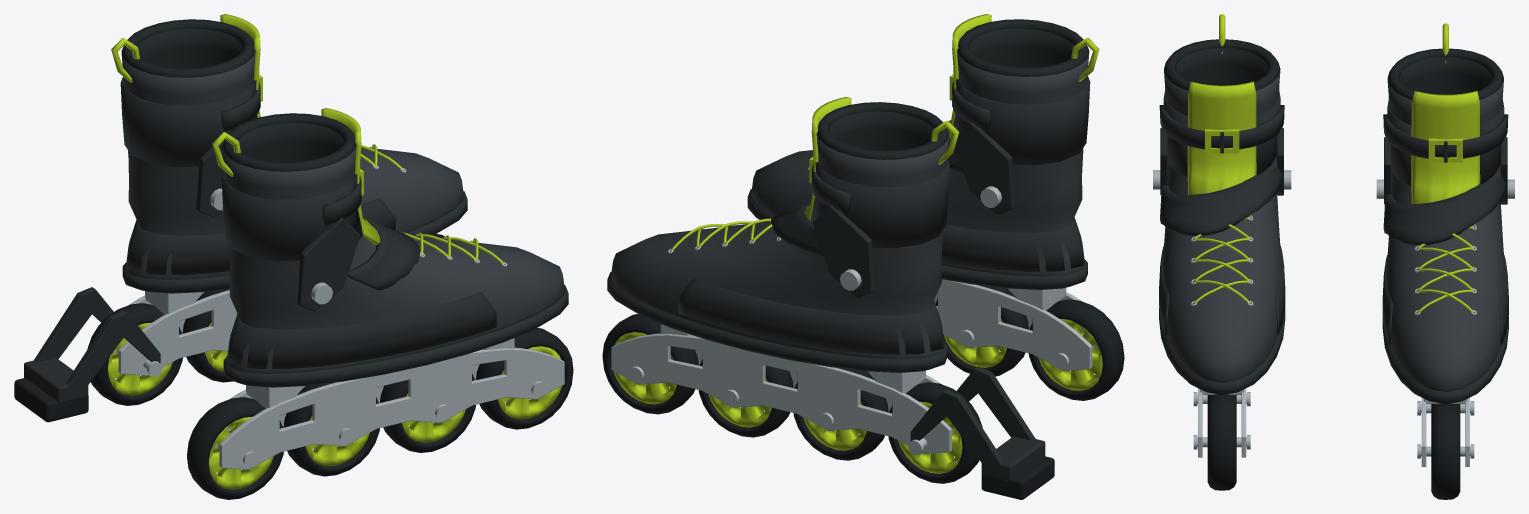
3 views of the same model, side by side, from view 1: azimuth 30°, elevation 25°; view 2: azimuth 150°, elevation 25°; view 3: azimuth 270°, elevation 25° (orthographic). The views are drawn at different scales.
Visible parts, largest first — view 1: L Hollow textile boot with lining, R Hollow textile boot with lining, L Perforated frame rail -0.018, L Rear molded heel cradle, L Raised C shaped ankle cuff, R Raised C shaped ankle cuff, L Molded boot sole, R Perforated frame rail -0.018, R Rear molded heel cradle, L Wheel1 rounded tread, L Cuff side pivot arm -0.048, R Padded collar welt (+24 smaller); view 2: R Hollow textile boot with lining, L Hollow textile boot with lining, R Perforated frame rail 0.018, R Rear molded heel cradle, L Perforated frame rail 0.018, R Raised C shaped ankle cuff, L Raised C shaped ankle cuff, L Rear molded heel cradle, R Molded boot sole, L Wheel1 rounded tread, R Cuff side pivot arm 0.048, L Cuff side pivot arm 0.048 (+25 smaller); view 3: L Hollow textile boot with lining, R Hollow textile boot with lining, L Padded front tongue, R Padded front tongue, L Diagonal instep retention strap, R Diagonal instep retention strap, L Wheel4 rounded tread, R Wheel4 rounded tread, R Upper cuff ratchet strap, L Upper cuff ratchet strap, L Molded boot sole, L Padded collar welt (+12 smaller).
Part boxes in pixels (<box>): L Hollow textile boot with lining: <box>222,122,564,373</box>; R Hollow textile boot with lining: <box>121,28,463,279</box>; L Perforated frame rail -0.018: <box>219,347,564,469</box>; L Rear molded heel cradle: <box>228,292,496,369</box>; L Raised C shaped ankle cuff: <box>221,171,363,261</box>; R Raised C shaped ankle cuff: <box>120,77,257,167</box>; L Molded boot sole: <box>223,285,568,387</box>; R Perforated frame rail -0.018: <box>118,290,237,375</box>; R Rear molded heel cradle: <box>127,198,395,275</box>; L Wheel1 rounded tread: <box>187,397,283,499</box>; L Cuff side pivot arm -0.048: <box>297,217,360,311</box>; R Padded collar welt: <box>121,19,255,77</box>; R Hollow textile boot with lining: <box>611,111,948,359</box>; L Hollow textile boot with lining: <box>751,28,1089,276</box>; R Perforated frame rail 0.018: <box>611,333,951,453</box>; R Rear molded heel cradle: <box>678,279,943,354</box>; L Perforated frame rail 0.018: <box>936,279,1092,371</box>; R Raised C shaped ankle cuff: <box>810,159,949,248</box>; L Raised C shaped ankle cuff: <box>951,76,1090,165</box>; L Rear molded heel cradle: <box>941,217,1083,271</box>; R Molded boot sole: <box>607,272,947,372</box>; L Wheel1 rounded tread: <box>1028,299,1124,400</box>; R Cuff side pivot arm 0.048: <box>813,205,874,297</box>; L Cuff side pivot arm 0.048: <box>955,122,1015,214</box>; L Hollow textile boot with lining: <box>1162,47,1281,382</box>; R Hollow textile boot with lining: <box>1386,57,1505,391</box>; L Padded front tongue: <box>1187,81,1256,194</box>; R Padded front tongue: <box>1411,90,1480,204</box>; L Diagonal instep retention strap: <box>1160,156,1282,235</box>; R Diagonal instep retention strap: <box>1383,165,1506,245</box>; L Wheel4 rounded tread: <box>1207,394,1236,490</box>; R Wheel4 rounded tread: <box>1431,403,1460,499</box>; R Upper cuff ratchet strap: <box>1383,114,1508,158</box>; L Upper cuff ratchet strap: <box>1159,105,1284,149</box>; L Molded boot sole: <box>1159,307,1285,394</box>; L Padded collar welt: <box>1164,39,1280,90</box>.
Size of the model in its own units: 0.384 by 0.3067 by 0.2976.
